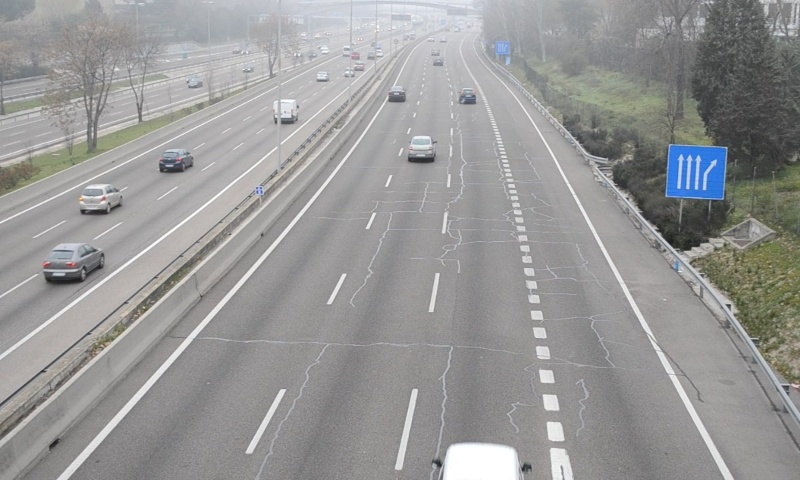car: (408, 135, 436, 161), (458, 87, 477, 105), (388, 86, 406, 103)
